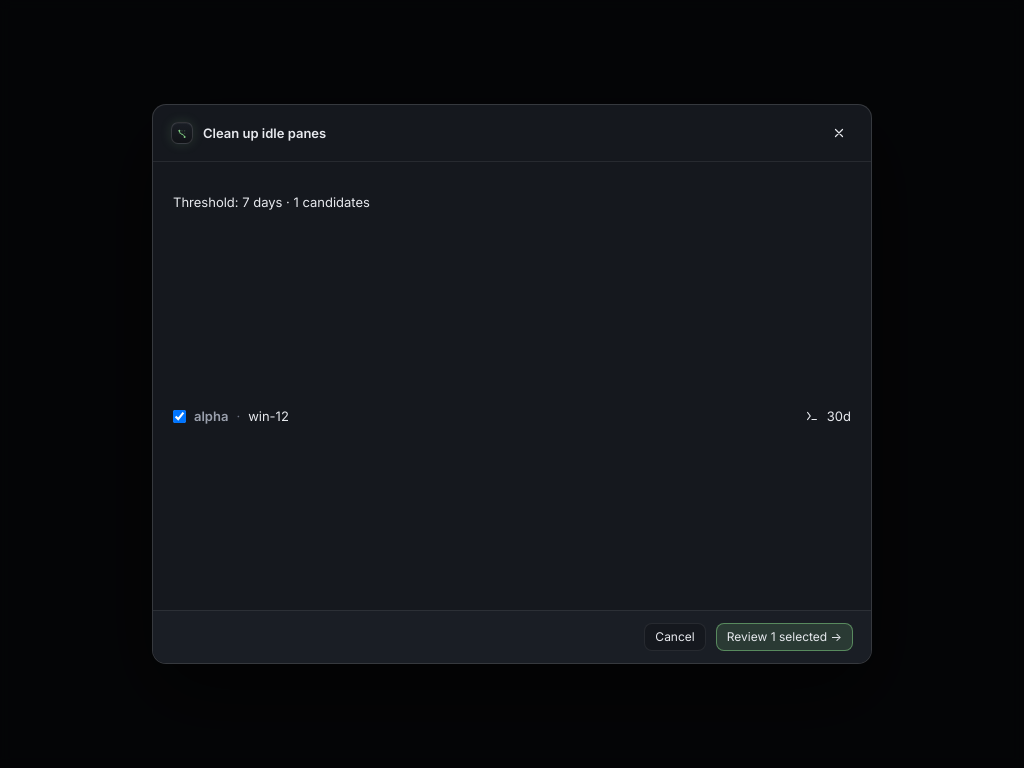
Test case: CleanupModal — Step 2 (Confirm) › renders 'Back' and 'Confirm close' on Step 2 (no Cancel)
Click the button "Review 1 selected →": {"x": 784, "y": 637} [716,623,853,651]
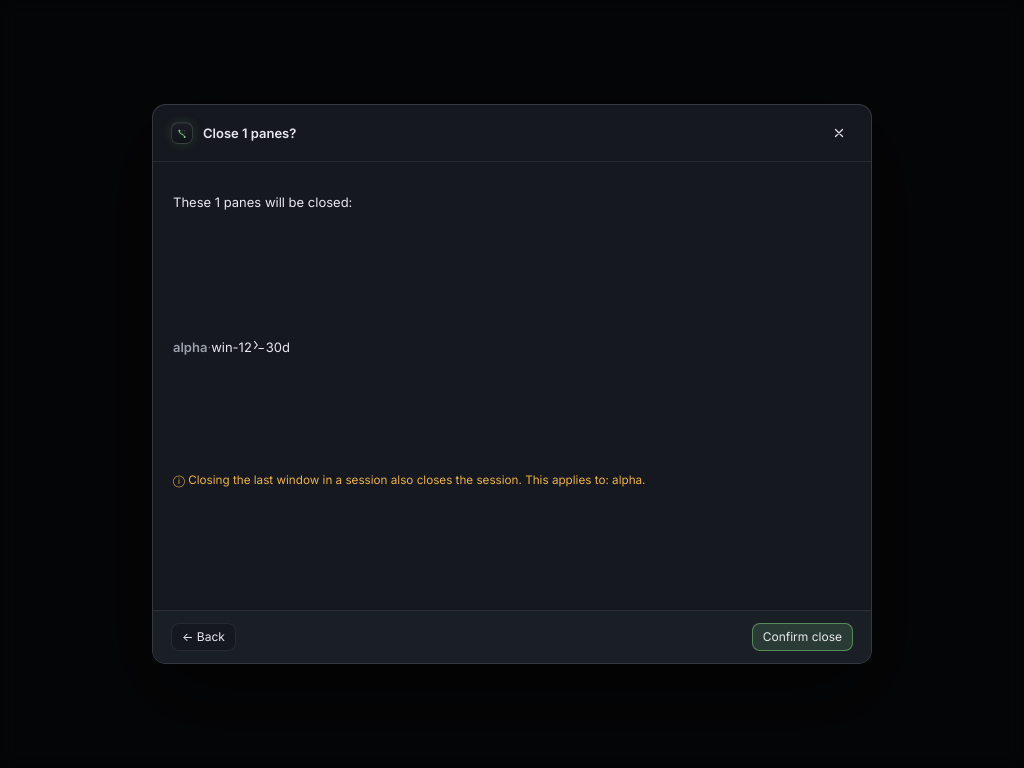
Expected: the button "Confirm close" is enabled, [752,623,853,651]
Now the button "← Back" is shown, box [171,623,236,651]
Now the button "Cancel" is gone
